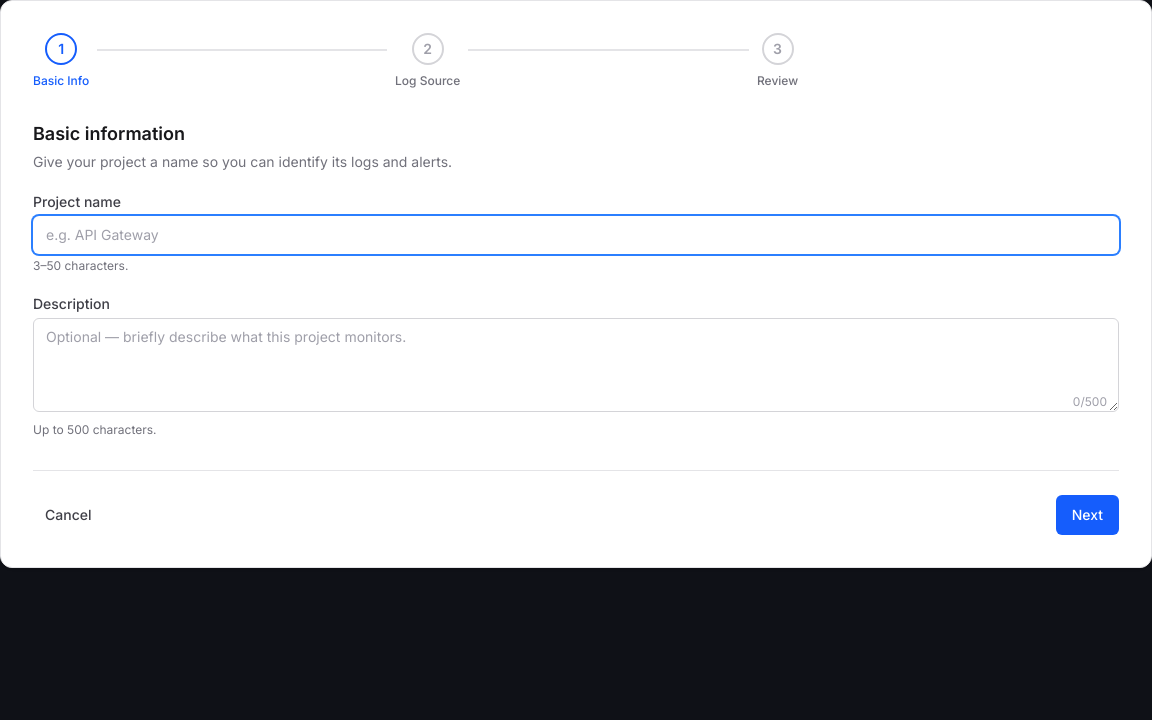
Test: NewProjectWizard — Step 1: Basic Info › stays on step 1 when name is too short (< 3 chars)
The image size is (1152, 720).
Type "AB" into the field labelled "Project name" at (576, 235), box [33,216,1119,254]
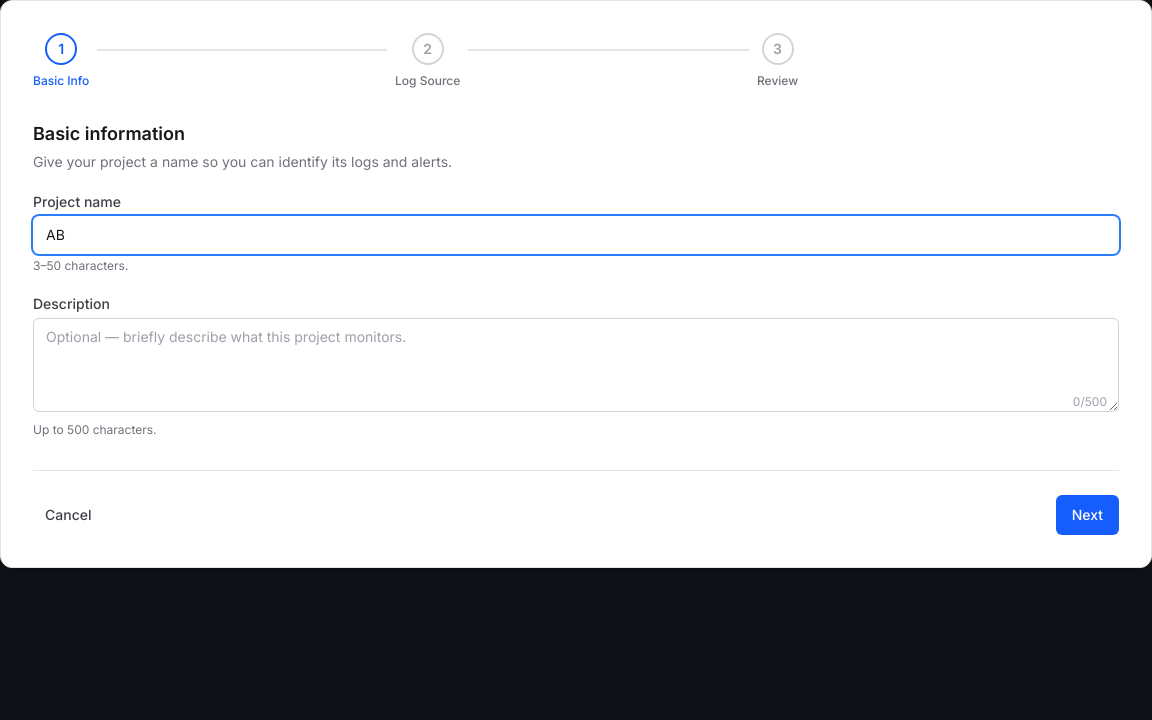
Click the button "Next" at (1087, 515), box [1056,495,1119,535]
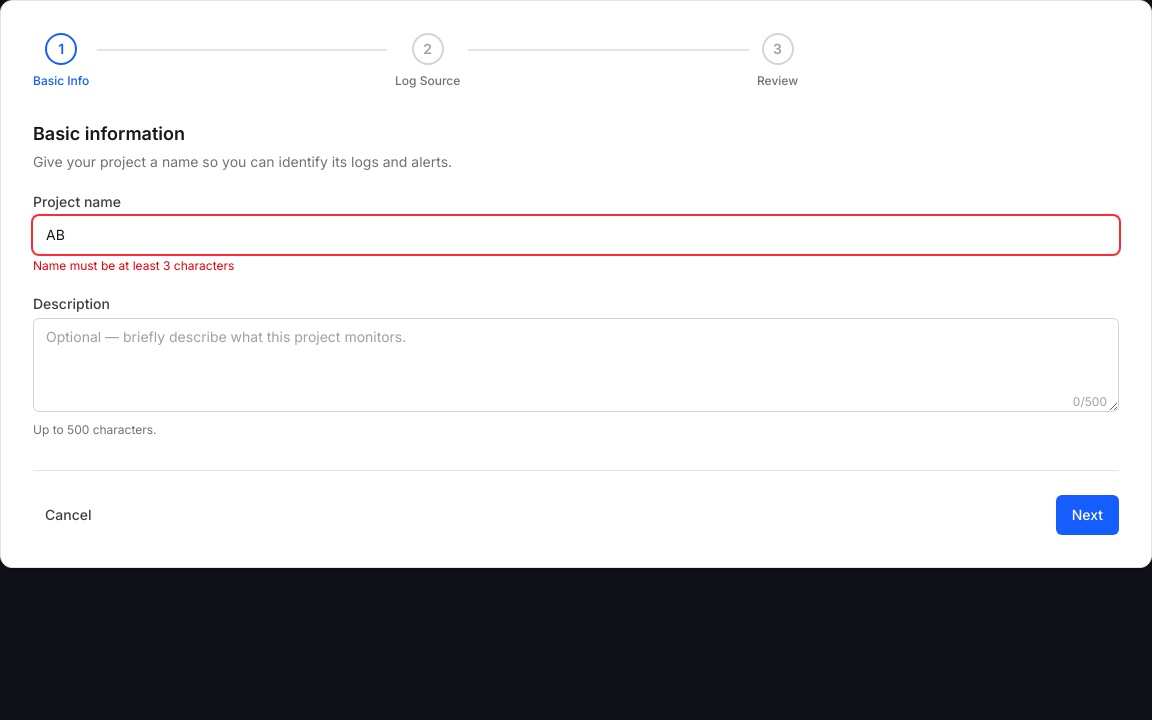
expect the text box labelled "Description" is shown: met, box [33,318,1119,412]
expect the message shows "at least 3": met, box [33,258,234,273]
